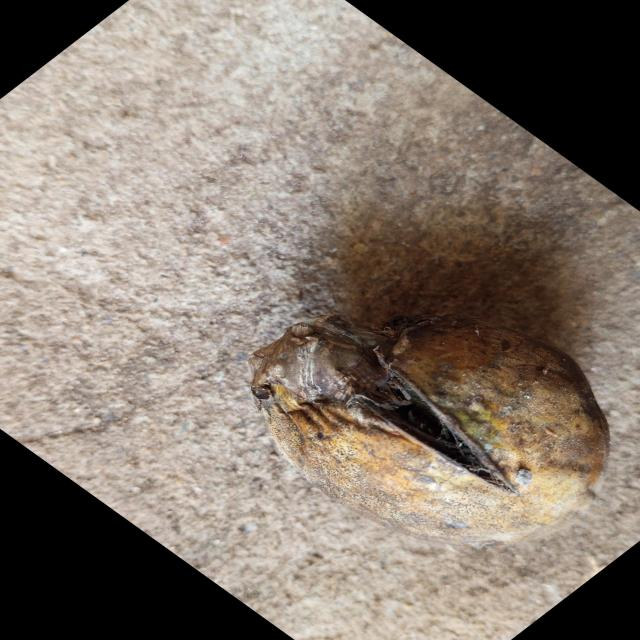damaged: (249, 313, 610, 546)
